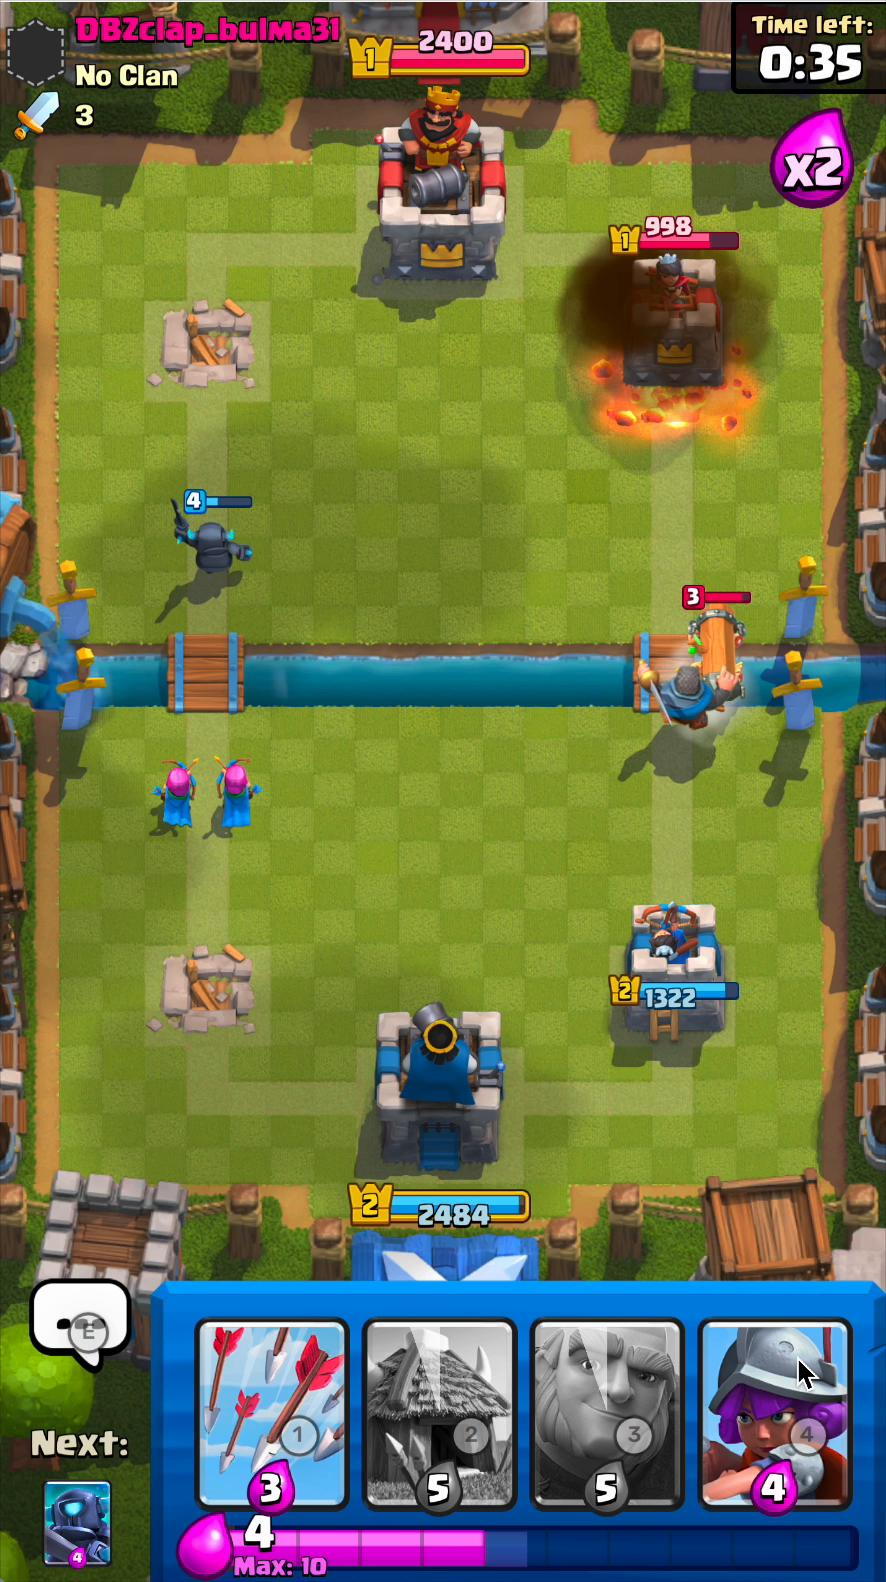archere: (208, 749, 263, 845), (153, 749, 203, 842)
chevalier: (628, 655, 736, 748)
mini_PEKKA: (165, 505, 251, 585)
